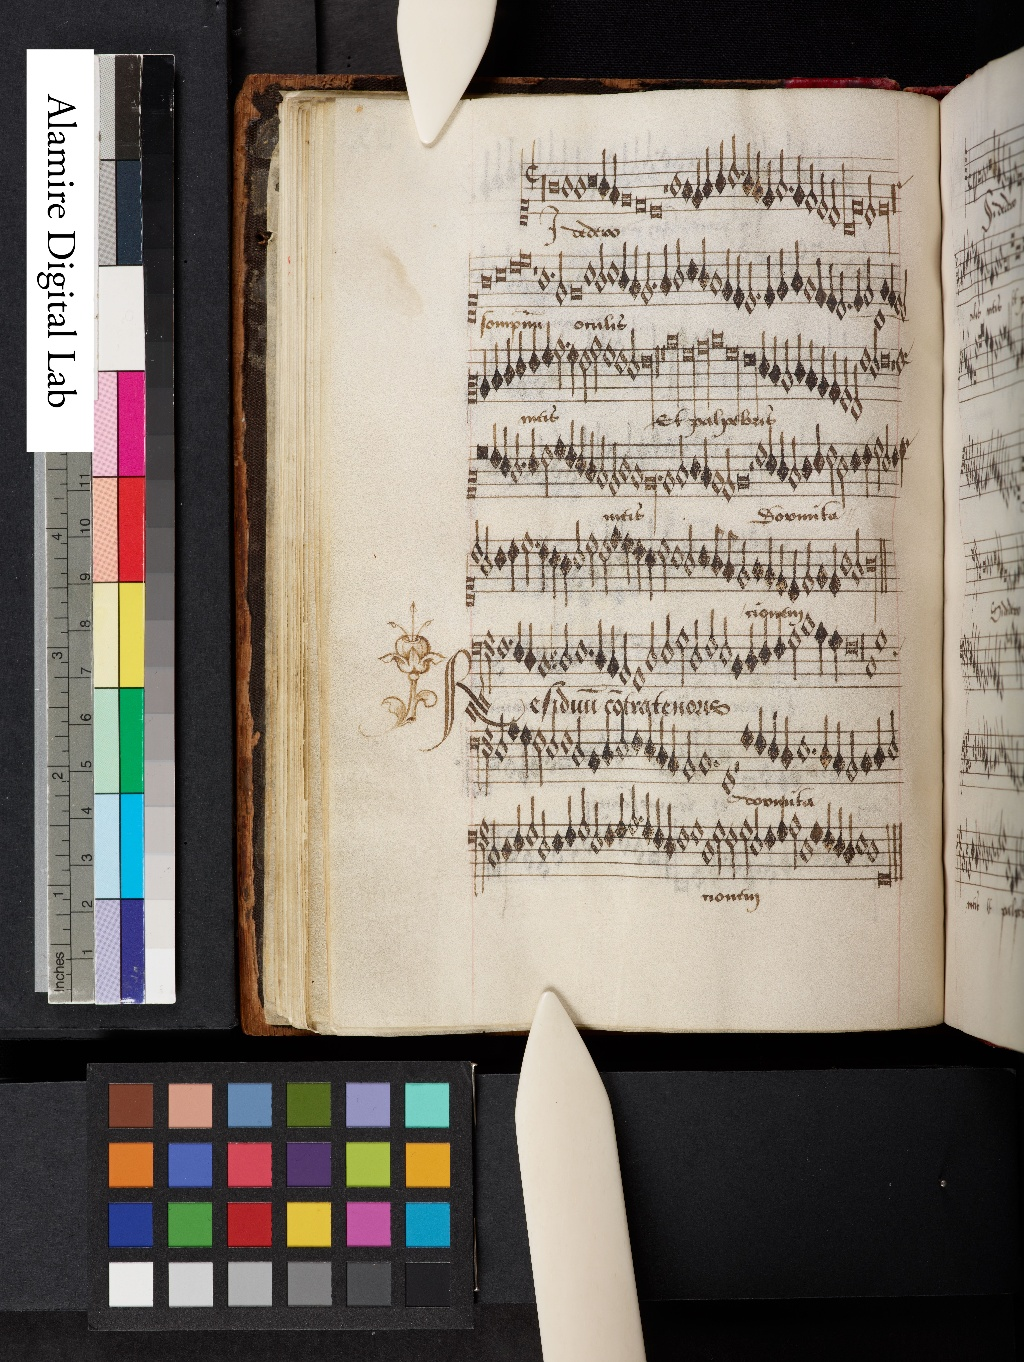breve_5: (838, 623, 861, 662)
colored semibreve_8: (727, 648, 746, 686)
custos_6: (893, 645, 909, 666)
f clef_5: (463, 624, 499, 695)
flat_7: (545, 618, 560, 665)
longa rest: (857, 624, 868, 692)
minim_4: (674, 621, 691, 691), (785, 623, 802, 686)
minim_5: (702, 605, 719, 665)
minim_6: (659, 609, 675, 671), (716, 610, 733, 671)
minim_7: (642, 615, 662, 679), (686, 614, 703, 681), (556, 618, 573, 680)
minim_9: (616, 625, 632, 690)
point: (580, 641, 596, 663), (502, 633, 515, 650)
semibreve_10: (630, 659, 649, 698)
semibreve_2: (799, 607, 817, 643)
semibreve_4: (870, 622, 890, 659)
semibreve_5: (493, 629, 510, 666)
semibreve_6: (572, 632, 591, 671)
semibreve_8: (862, 650, 880, 686), (535, 647, 552, 685)
semiminim_3: (813, 616, 829, 683)
semiminim_4: (827, 621, 843, 689)
semiminim_5: (772, 614, 788, 667)
semiminim_6: (757, 614, 772, 671), (511, 613, 525, 671)
semiminim_7: (592, 614, 608, 680), (743, 618, 759, 681), (523, 618, 537, 679)
semiminim_8: (605, 621, 618, 684)
